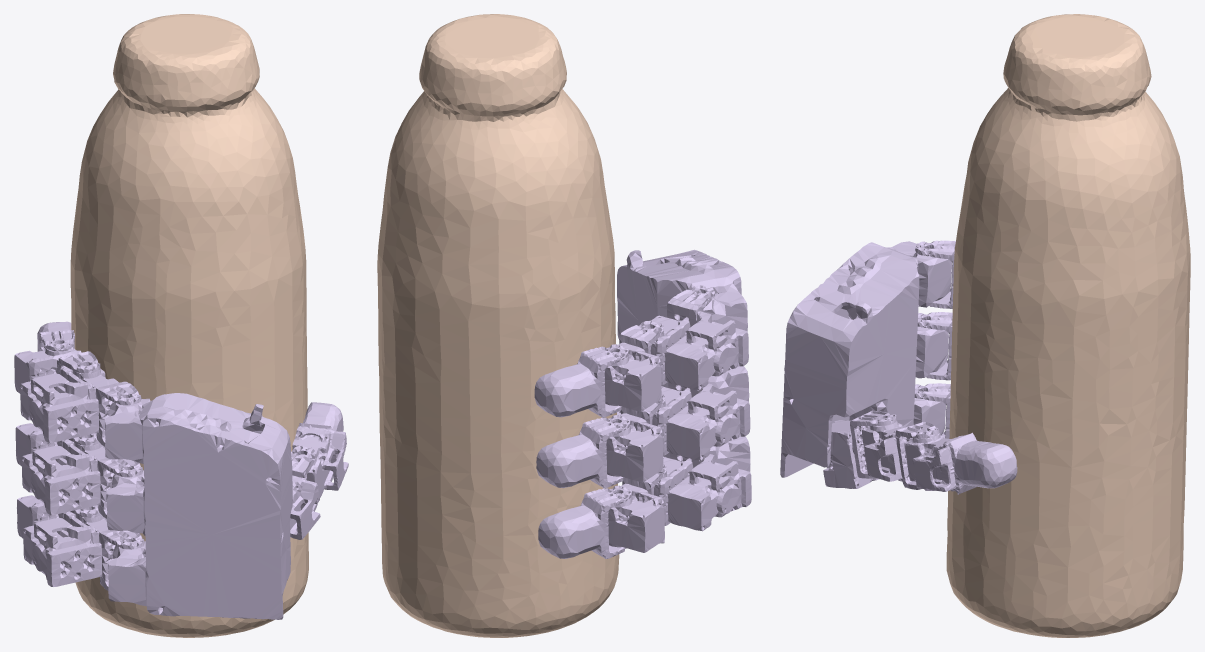
3 renders of one model, left to right at view 1: azimuth 30°, elevation 25°; view 2: azimuth 150°, elevation 25°; view 3: azimuth 270°, elevation 25°, orthographic.
Visible parts, largest first — view 1: world, LEAP_hand; view 2: world, LEAP_hand; view 3: world, LEAP_hand.
Part boxes in pixels (x1=…): world: x1=70, y1=14, x2=308, y2=637; LEAP_hand: x1=14, y1=321, x2=348, y2=619; world: x1=377, y1=14, x2=619, y2=637; LEAP_hand: x1=534, y1=249, x2=751, y2=558; world: x1=946, y1=14, x2=1190, y2=637; LEAP_hand: x1=780, y1=240, x2=1017, y2=494.
Bounding box in the file's own units: 0.2066 × 0.3598 × 0.2367.
